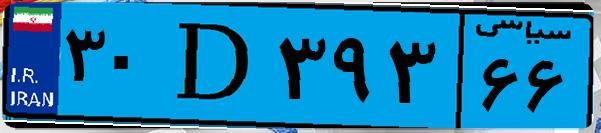0: (110, 28, 158, 98)
3: (270, 28, 330, 110), (385, 28, 445, 110), (57, 26, 110, 100)
6: (475, 38, 525, 113), (525, 38, 570, 115)
9: (330, 28, 385, 110)
D: (158, 12, 270, 120)
